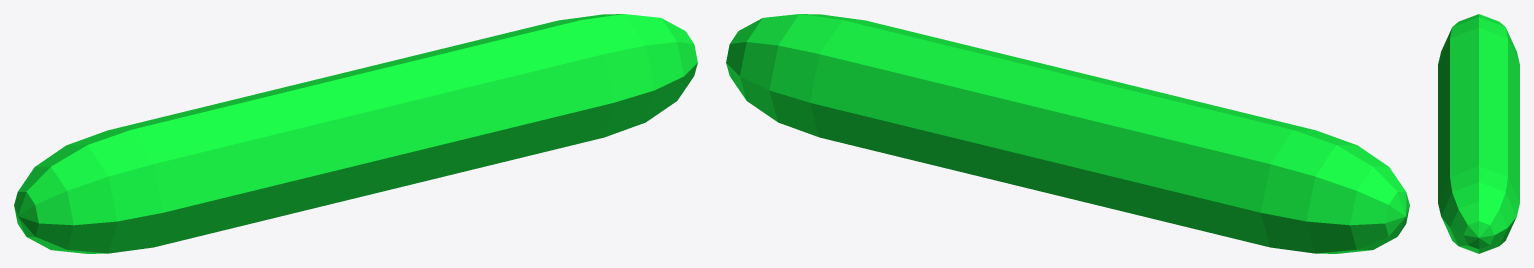
The model's file is Bullet.fbx.
The picture shows the model from 3 angles, left to right: view 1: azimuth 30°, elevation 25°; view 2: azimuth 150°, elevation 25°; view 3: azimuth 270°, elevation 25°; orthographic projection. The views are drawn at different scales.
Parts seen in each view (by area): view 1: Ball; view 2: Ball; view 3: Ball.
Part boxes in pixels (bbox=[...]): Ball: bbox=[14, 14, 697, 253]; Ball: bbox=[726, 14, 1409, 253]; Ball: bbox=[1438, 14, 1519, 253].
Size of the model in its own units: 42 by 7 by 7.
Materials: 1 (1 with a texture image).
